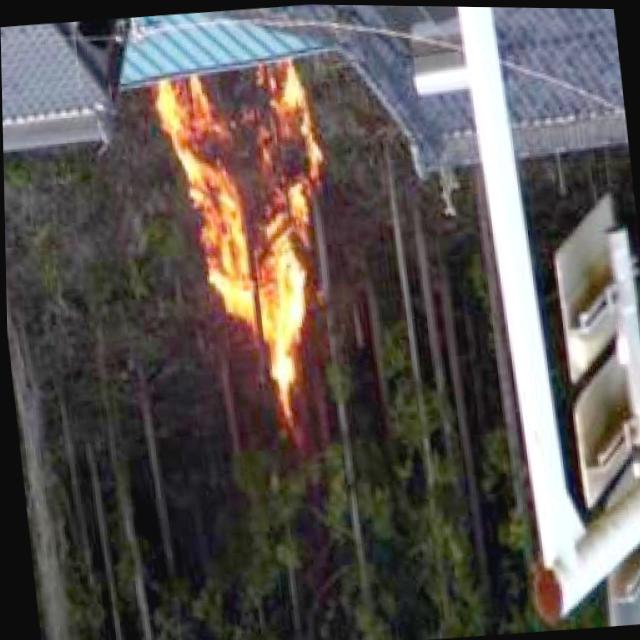Fire: (169, 59, 341, 388)
